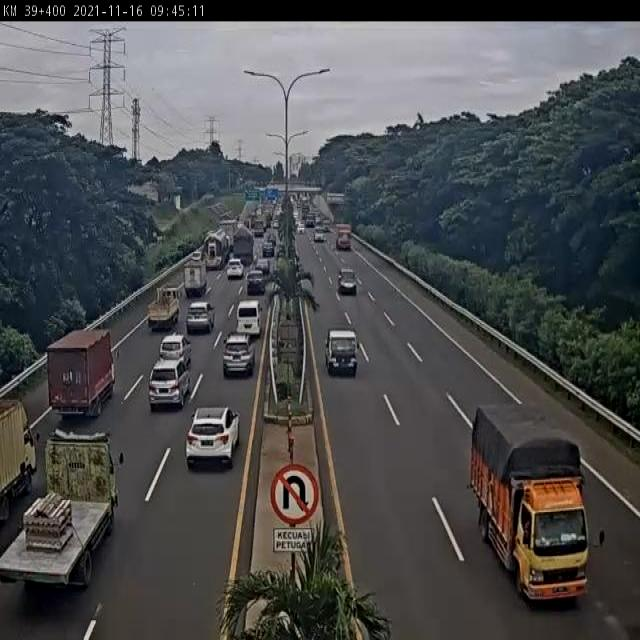Car: (184, 406, 241, 472), (148, 354, 190, 411), (222, 332, 256, 377), (159, 333, 192, 368), (186, 301, 215, 335), (337, 268, 358, 294), (246, 270, 266, 295), (226, 258, 244, 279), (256, 257, 270, 275), (262, 238, 274, 257), (297, 223, 305, 234)
Truck: (468, 401, 589, 600), (0, 427, 127, 591), (44, 329, 120, 418), (0, 399, 41, 527), (324, 327, 359, 377), (147, 284, 182, 331), (202, 229, 230, 271), (182, 258, 208, 298), (232, 225, 255, 267), (217, 220, 236, 250), (335, 224, 352, 250), (301, 198, 310, 224), (252, 218, 264, 237), (263, 208, 273, 228), (313, 226, 325, 242), (305, 215, 315, 228), (322, 219, 331, 232)
Van: (236, 299, 262, 336)
